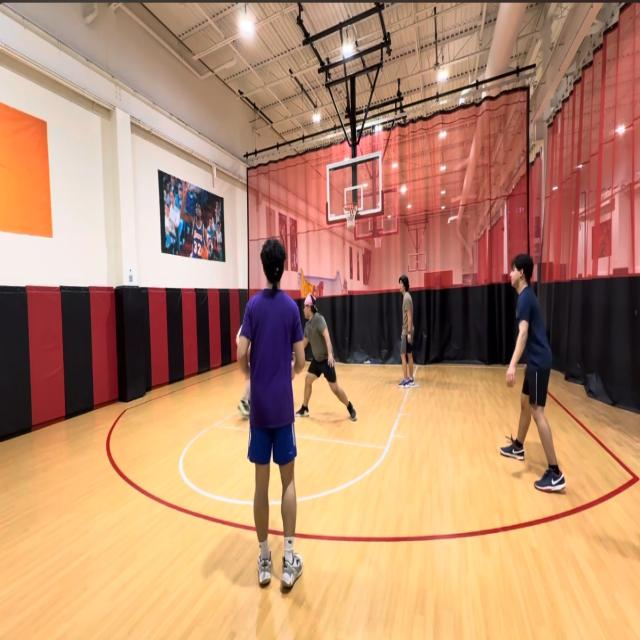Basketball Rim: (342, 201, 358, 229)
